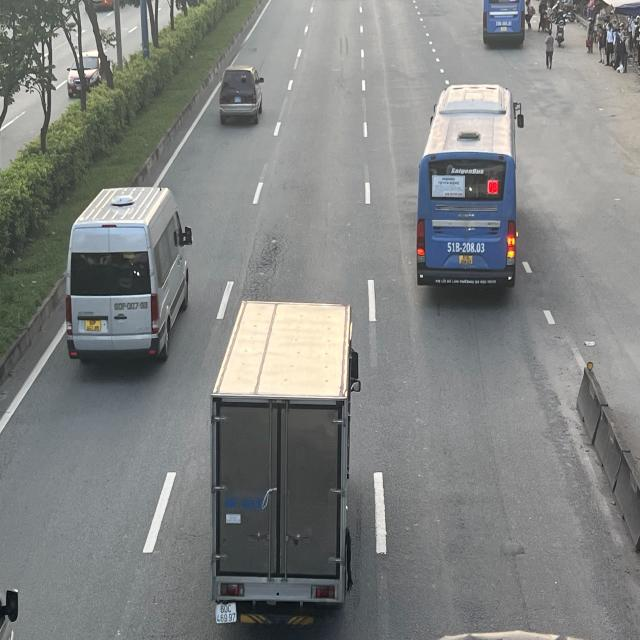car: (217, 65, 263, 122)
coach: (413, 82, 523, 290), (483, 0, 528, 44)
truck: (211, 296, 362, 628)
van: (68, 185, 195, 364)
